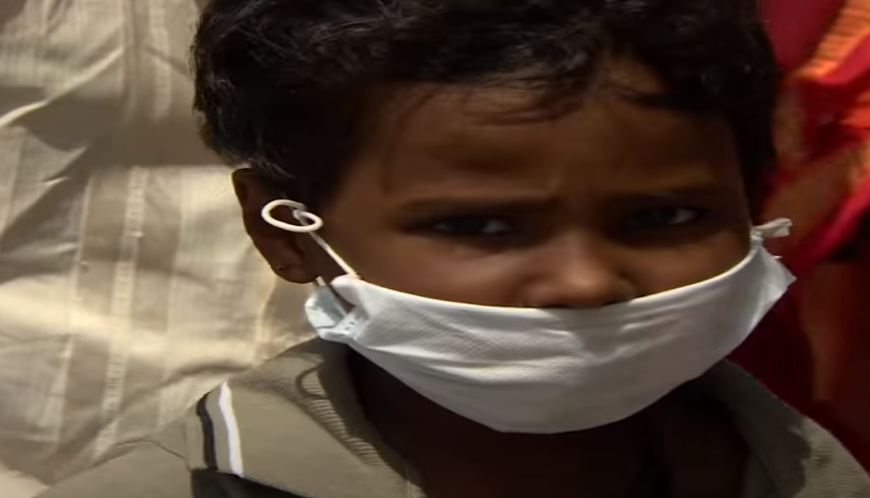mask_weared_incorrect: (243, 7, 798, 436)
